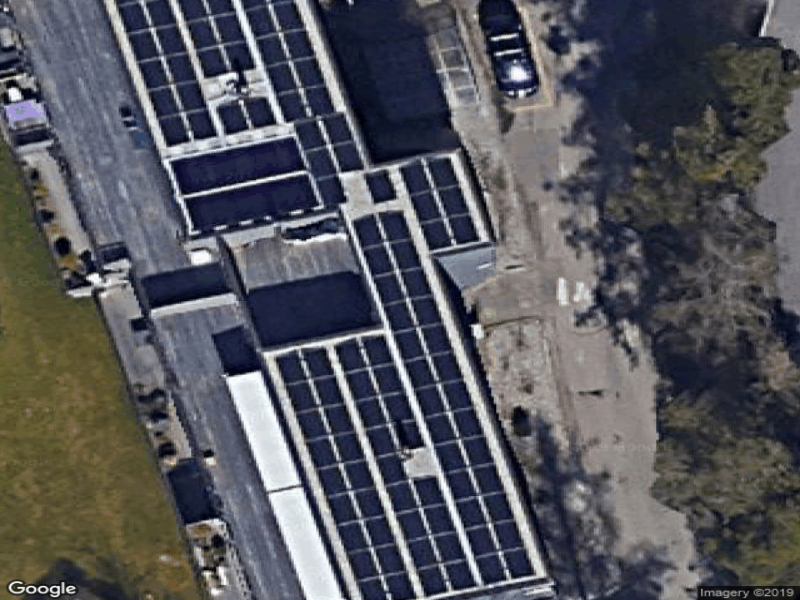pv: (115, 1, 536, 600)
